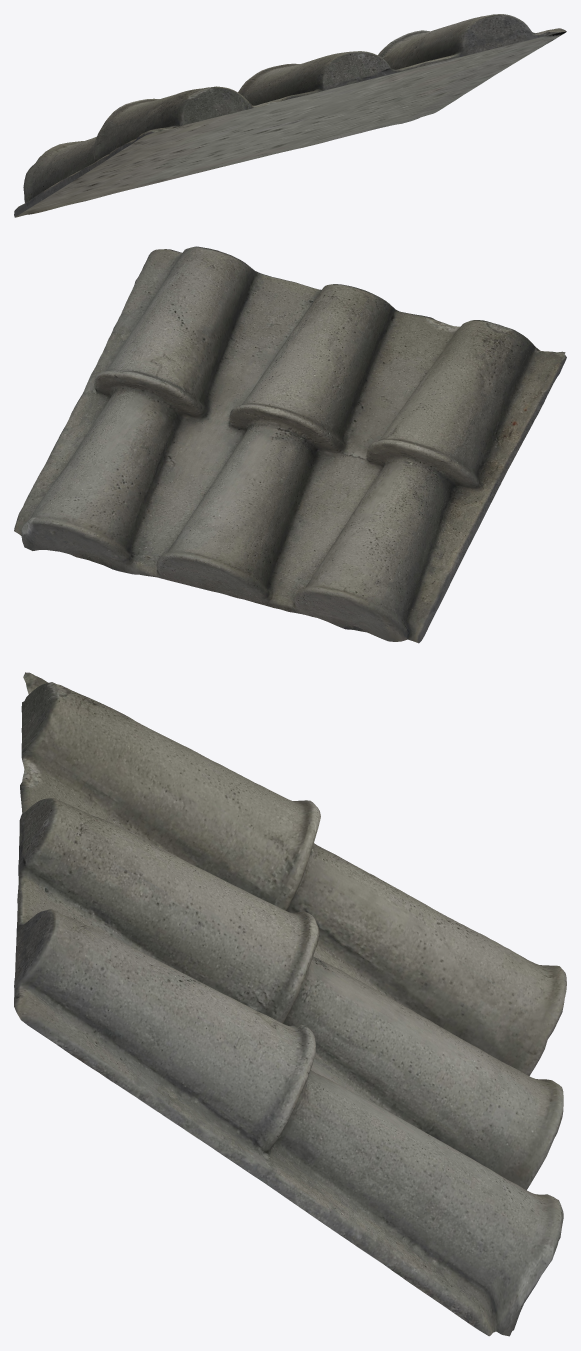
The model's file is Retopo_3DModel_mesh.134.glb.
The picture shows the model from 3 angles, top to bottom: view 1: azimuth 30°, elevation 25°; view 2: azimuth 150°, elevation 25°; view 3: azimuth 270°, elevation 25°; orthographic projection. The views are drawn at different scales.
Parts seen in each view (by area): view 1: Retopo_3DModel_mesh.134; view 2: Retopo_3DModel_mesh.134; view 3: Retopo_3DModel_mesh.134.
Part boxes in pixels (bbox=[...]): Retopo_3DModel_mesh.134: bbox=[14, 14, 566, 217]; Retopo_3DModel_mesh.134: bbox=[14, 246, 566, 643]; Retopo_3DModel_mesh.134: bbox=[14, 672, 566, 1336].
Size of the model in its own units: 4.91 by 2.42 by 3.24.
Materials: 1 (1 with a texture image).
